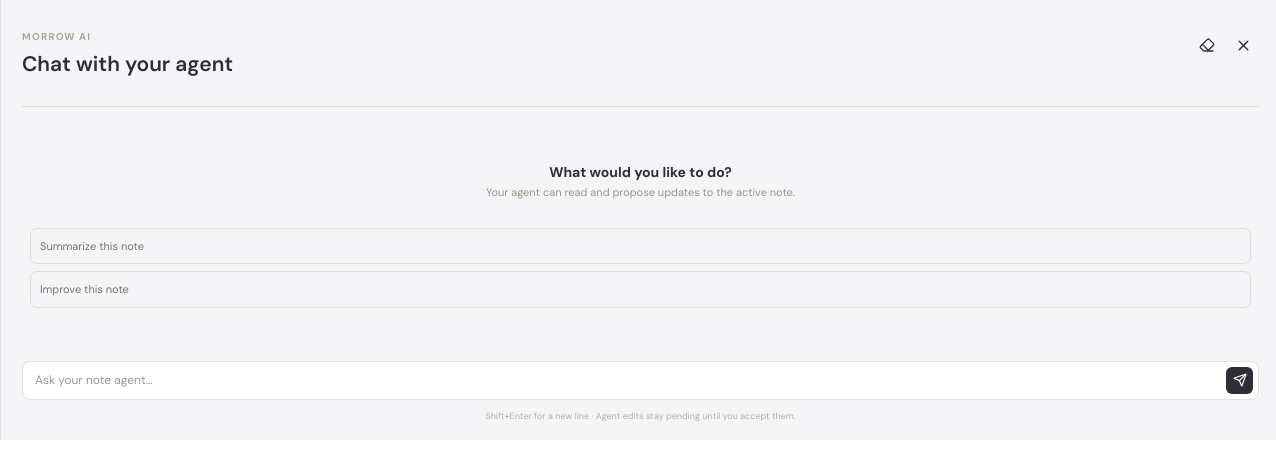
Test: AgentPanel › keeps partial output and replaces the empty placeholder on a terminal stream error
The image size is (1276, 457).
Type "Create something complex" into the text box named "Chat message" at [628, 380], box [35,366,1220,394]
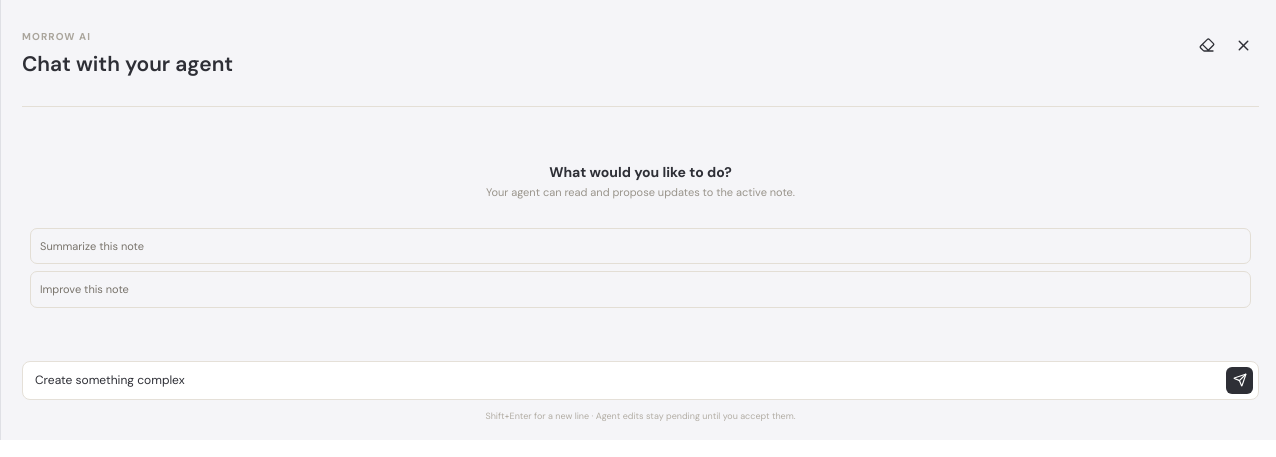
Click the button named "Send message" at [1240, 380], box [1226,366,1253,394]
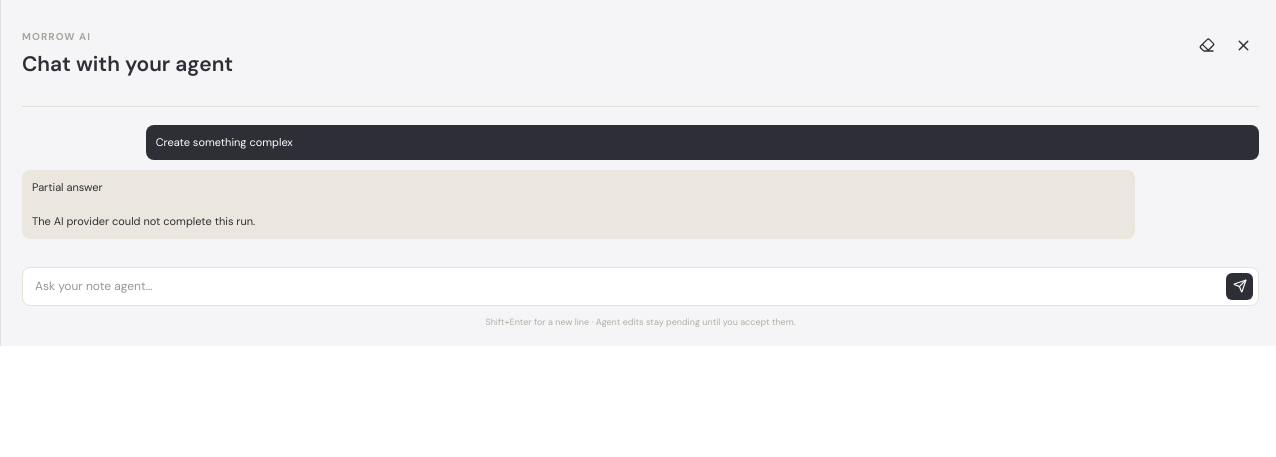
Check: the text "Partial answer The AI provider could not complete this run." is shown, box [32,180,255,228]
Check: the number of buttons named "Send message" is 1, box [1226,273,1253,300]
